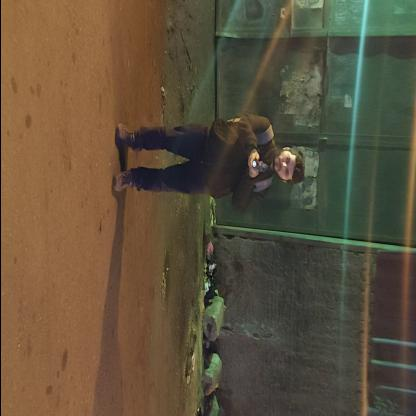long weapon: (244, 151, 274, 181)
